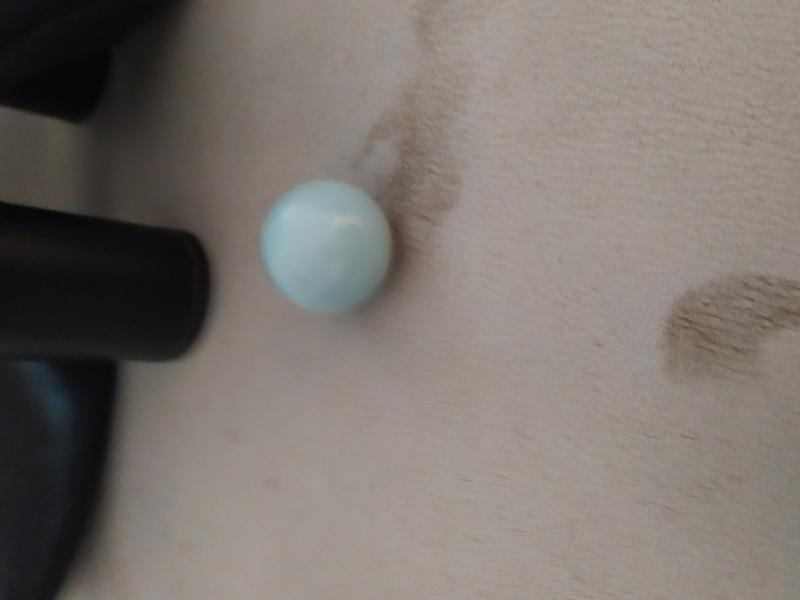Warning: (255, 175, 399, 319)
